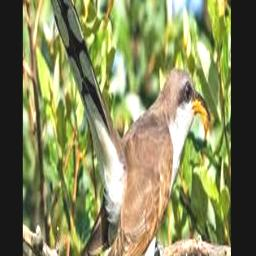Cuckoo: (50, 0, 211, 256)
